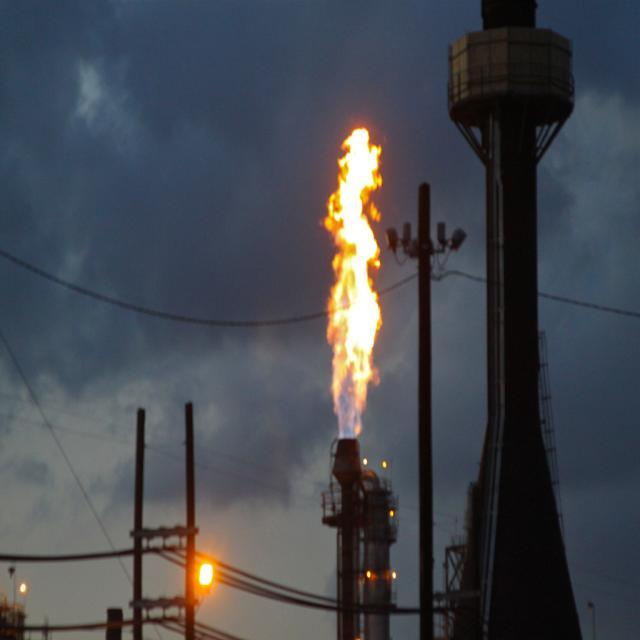Fire: (335, 141, 370, 412)
